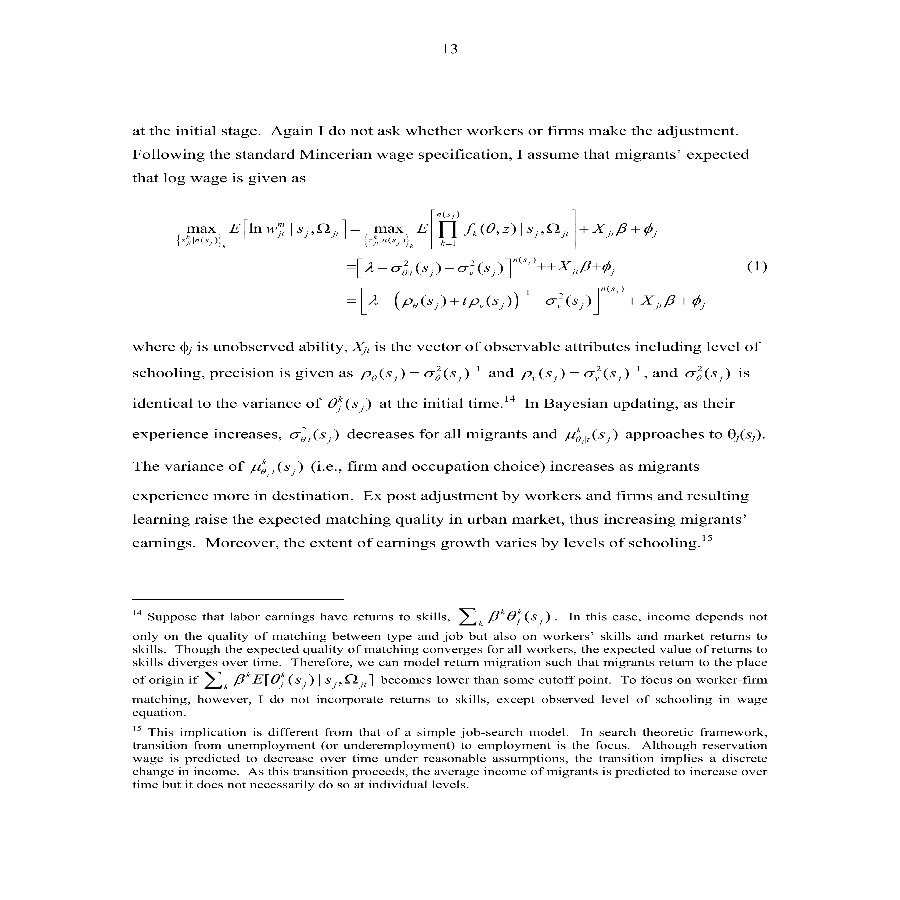eq: (170, 211, 714, 318)
